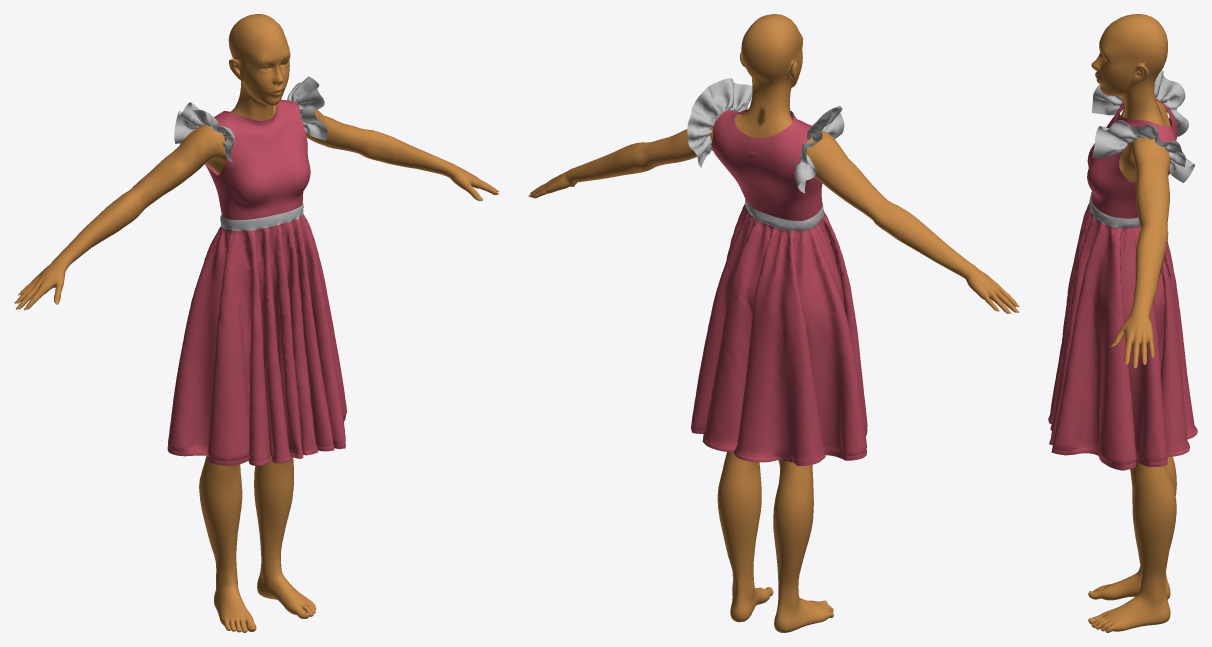
The model's file is dress4.glb.
3 views of the same model, side by side, from view 1: azimuth 30°, elevation 25°; view 2: azimuth 150°, elevation 25°; view 3: azimuth 270°, elevation 25° (orthographic).
Visible parts, largest first — view 1: PinkDrees#14 (OBJ), Body; view 2: PinkDrees#14 (OBJ), Body; view 3: PinkDrees#14 (OBJ), Body.
Boxes of the visible parts, left/top/right/bottom form: PinkDrees#14 (OBJ): left=167, top=76, right=346, bottom=465; Body: left=17, top=14, right=498, bottom=632; PinkDrees#14 (OBJ): left=687, top=78, right=867, bottom=465; Body: left=529, top=14, right=1016, bottom=632; PinkDrees#14 (OBJ): left=1048, top=70, right=1197, bottom=470; Body: left=1088, top=14, right=1176, bottom=632.
Bounding box in the file's own units: 1.58 × 1.85 × 0.4187.
